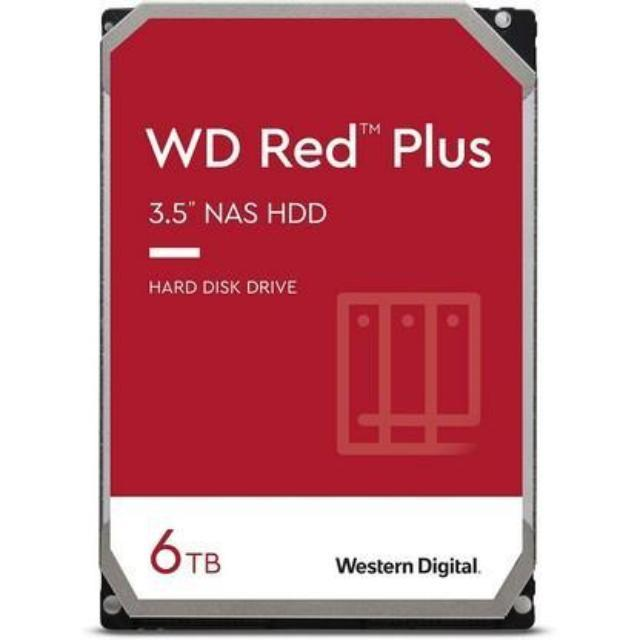DISK: (88, 0, 544, 631)
